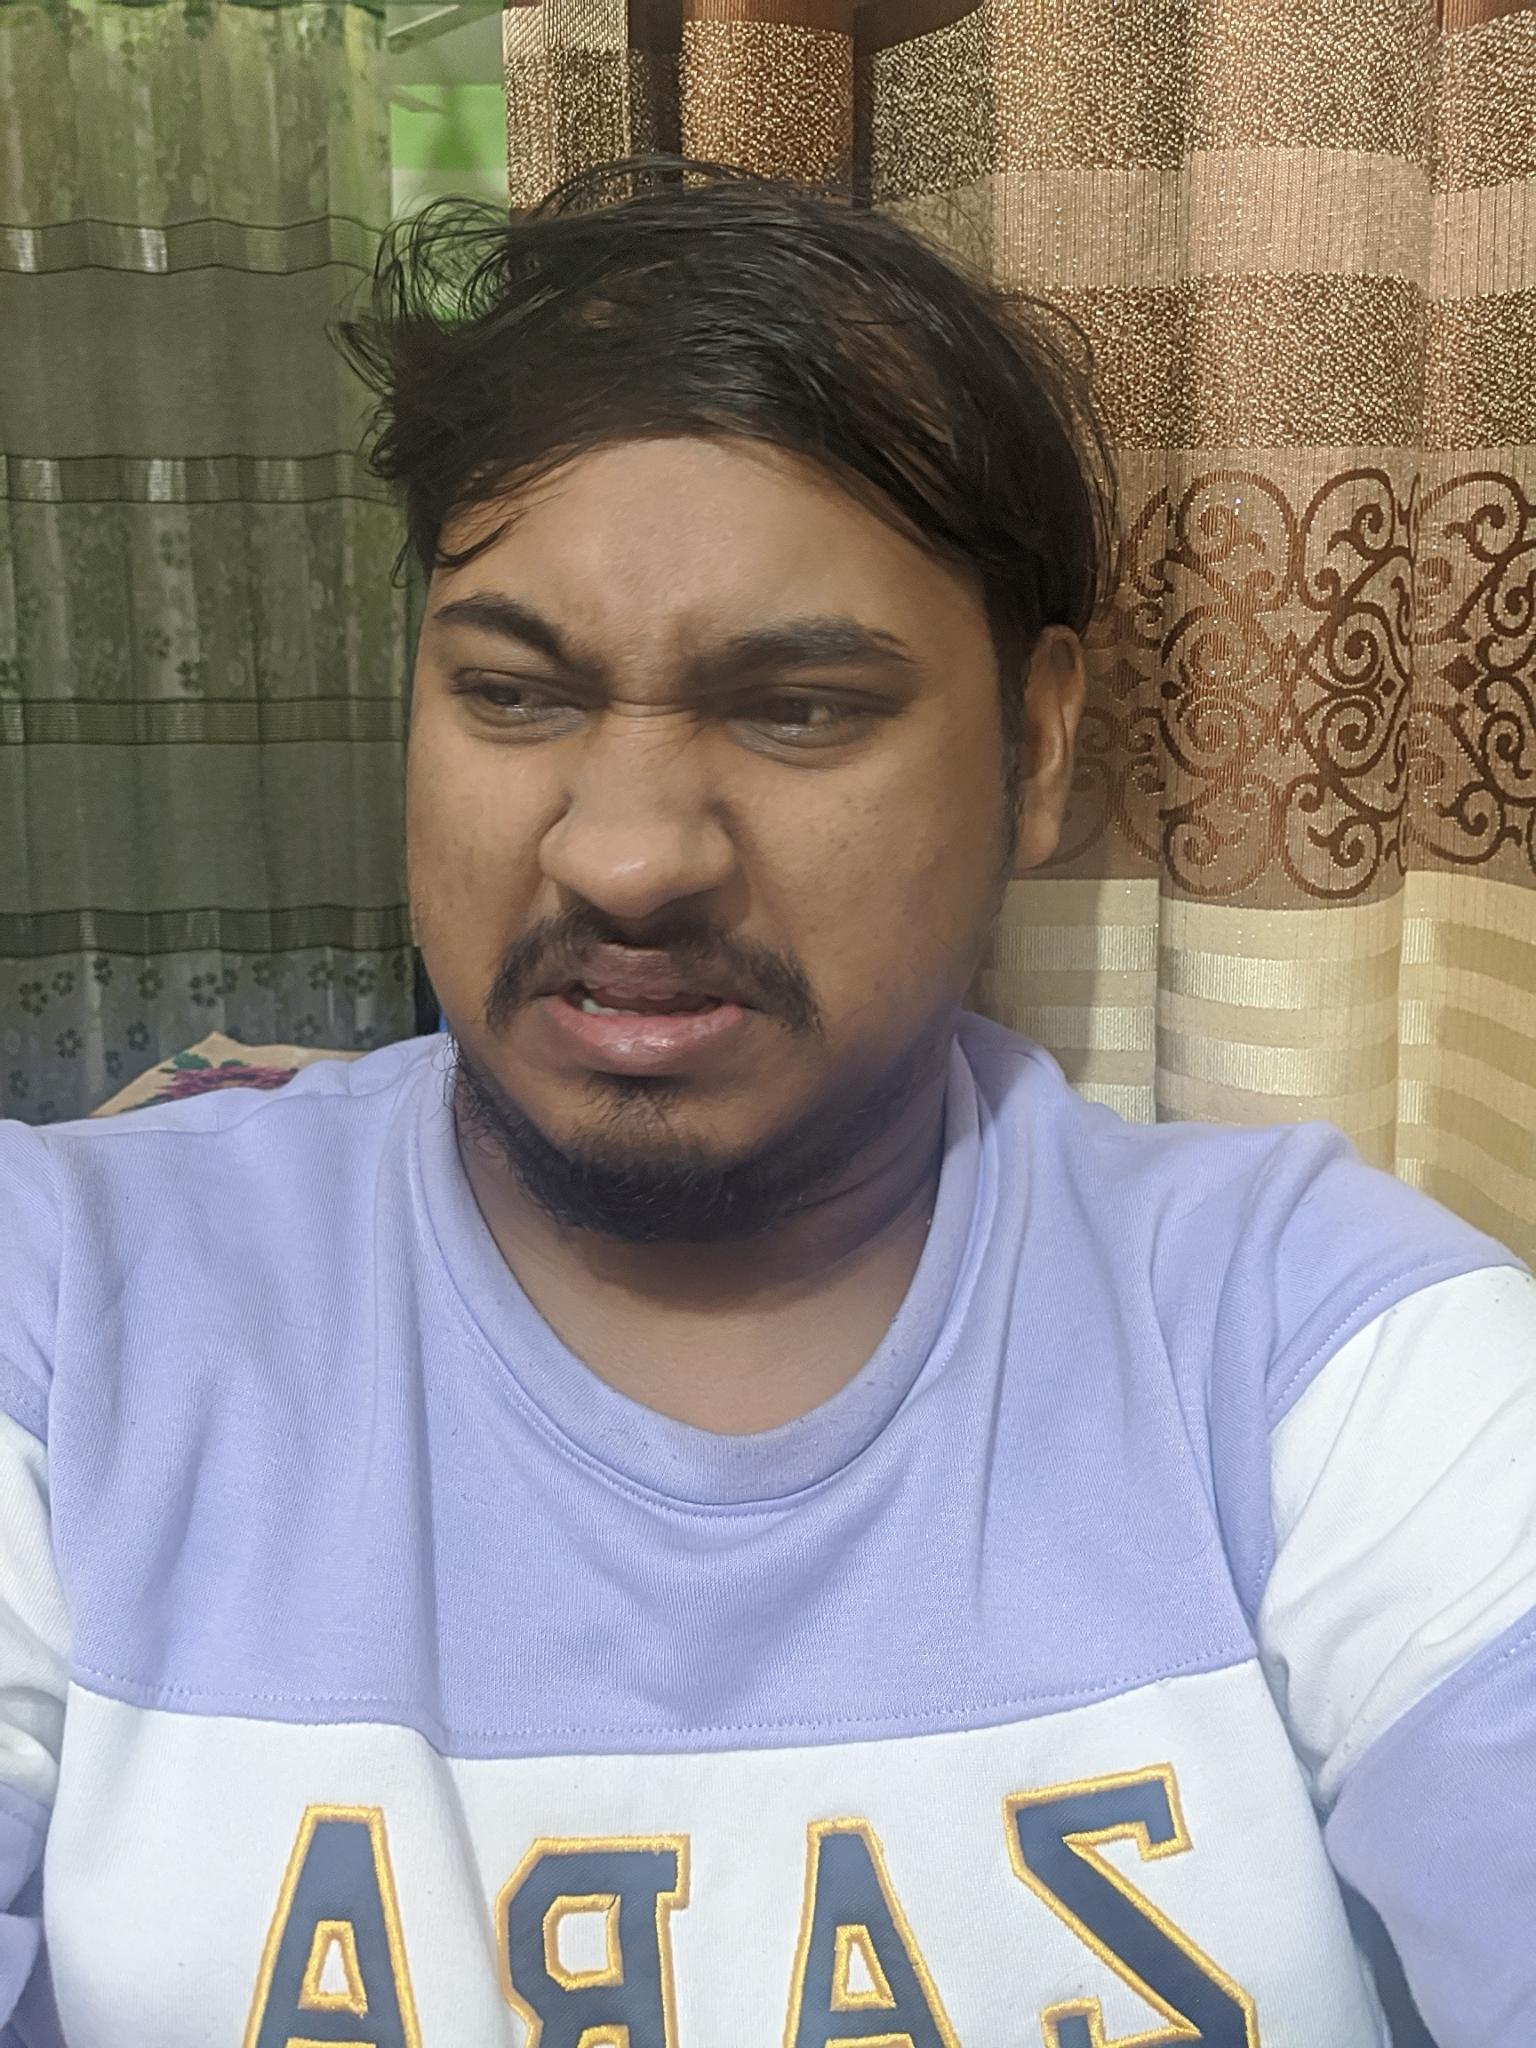Disgust: (369, 526, 994, 1184)
